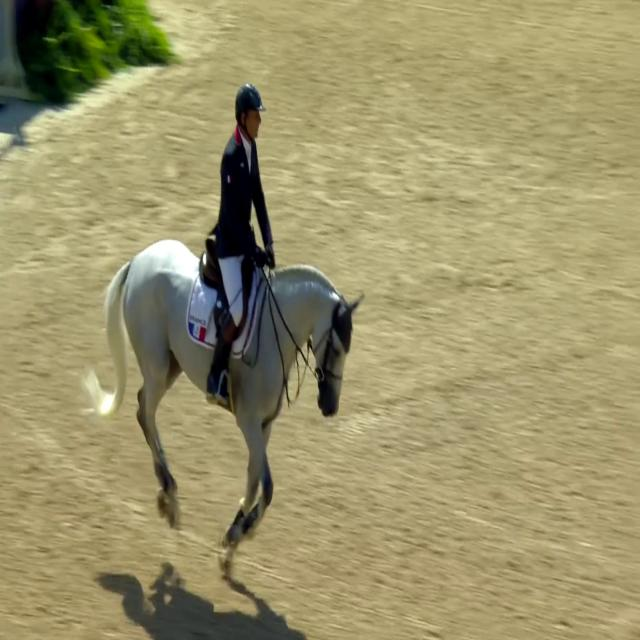Horse Rider: (200, 36, 280, 408)
Horse Running: (70, 208, 359, 581)
